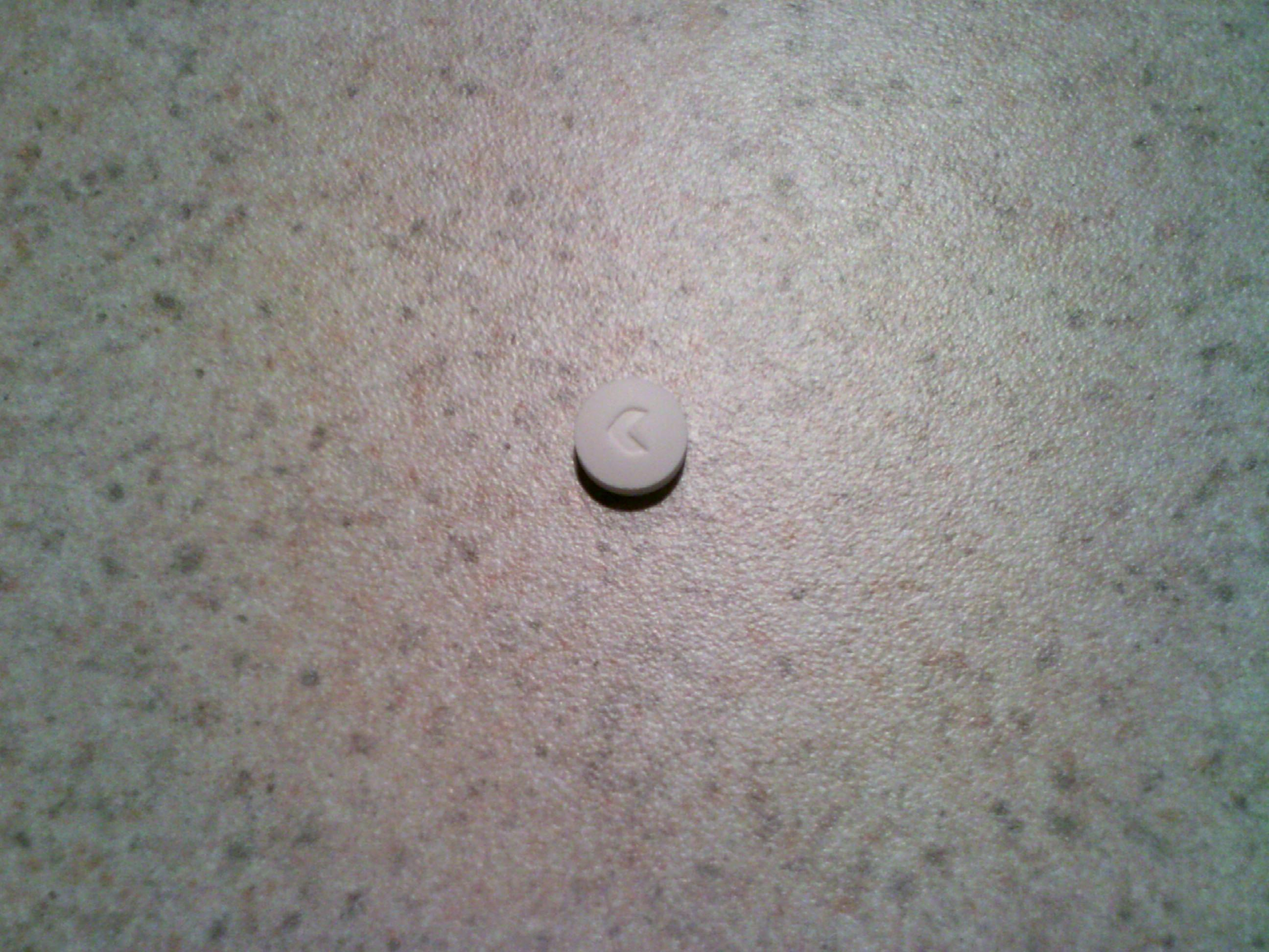Pill: (558, 367, 702, 509)
